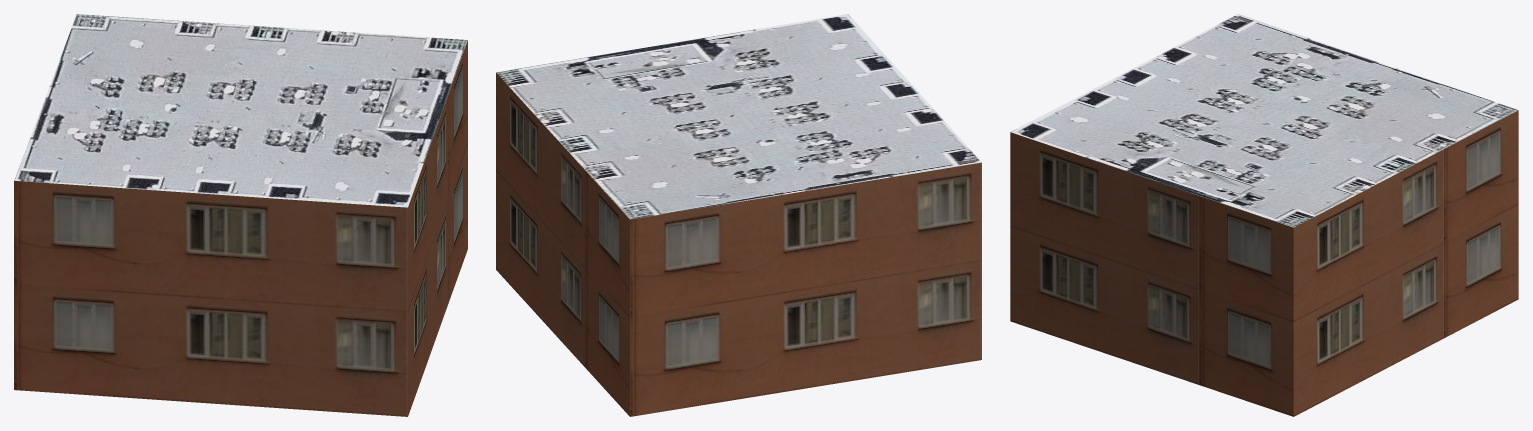
The model's file is ResTex__990.fbx.
3 renders of one model, left to right at view 1: azimuth 30°, elevation 25°; view 2: azimuth 150°, elevation 25°; view 3: azimuth 270°, elevation 25°, orthographic. The views are drawn at different scales.
Parts seen in each view (by area): view 1: CityEngineMaterial_20_m, CityEngineMaterial_m; view 2: CityEngineMaterial_20_m, CityEngineMaterial_m; view 3: CityEngineMaterial_20_m, CityEngineMaterial_m.
Boxes of the visible parts, <box> form: CityEngineMaterial_20_m: <box>14,40,467,416</box>; CityEngineMaterial_m: <box>14,14,467,207</box>; CityEngineMaterial_20_m: <box>496,73,981,416</box>; CityEngineMaterial_m: <box>496,14,981,219</box>; CityEngineMaterial_20_m: <box>1010,110,1518,416</box>; CityEngineMaterial_m: <box>1010,14,1518,227</box>.
Bounding box in the file's own units: 14.54 × 6 × 14.61.
Materials: 2 (2 with a texture image).
